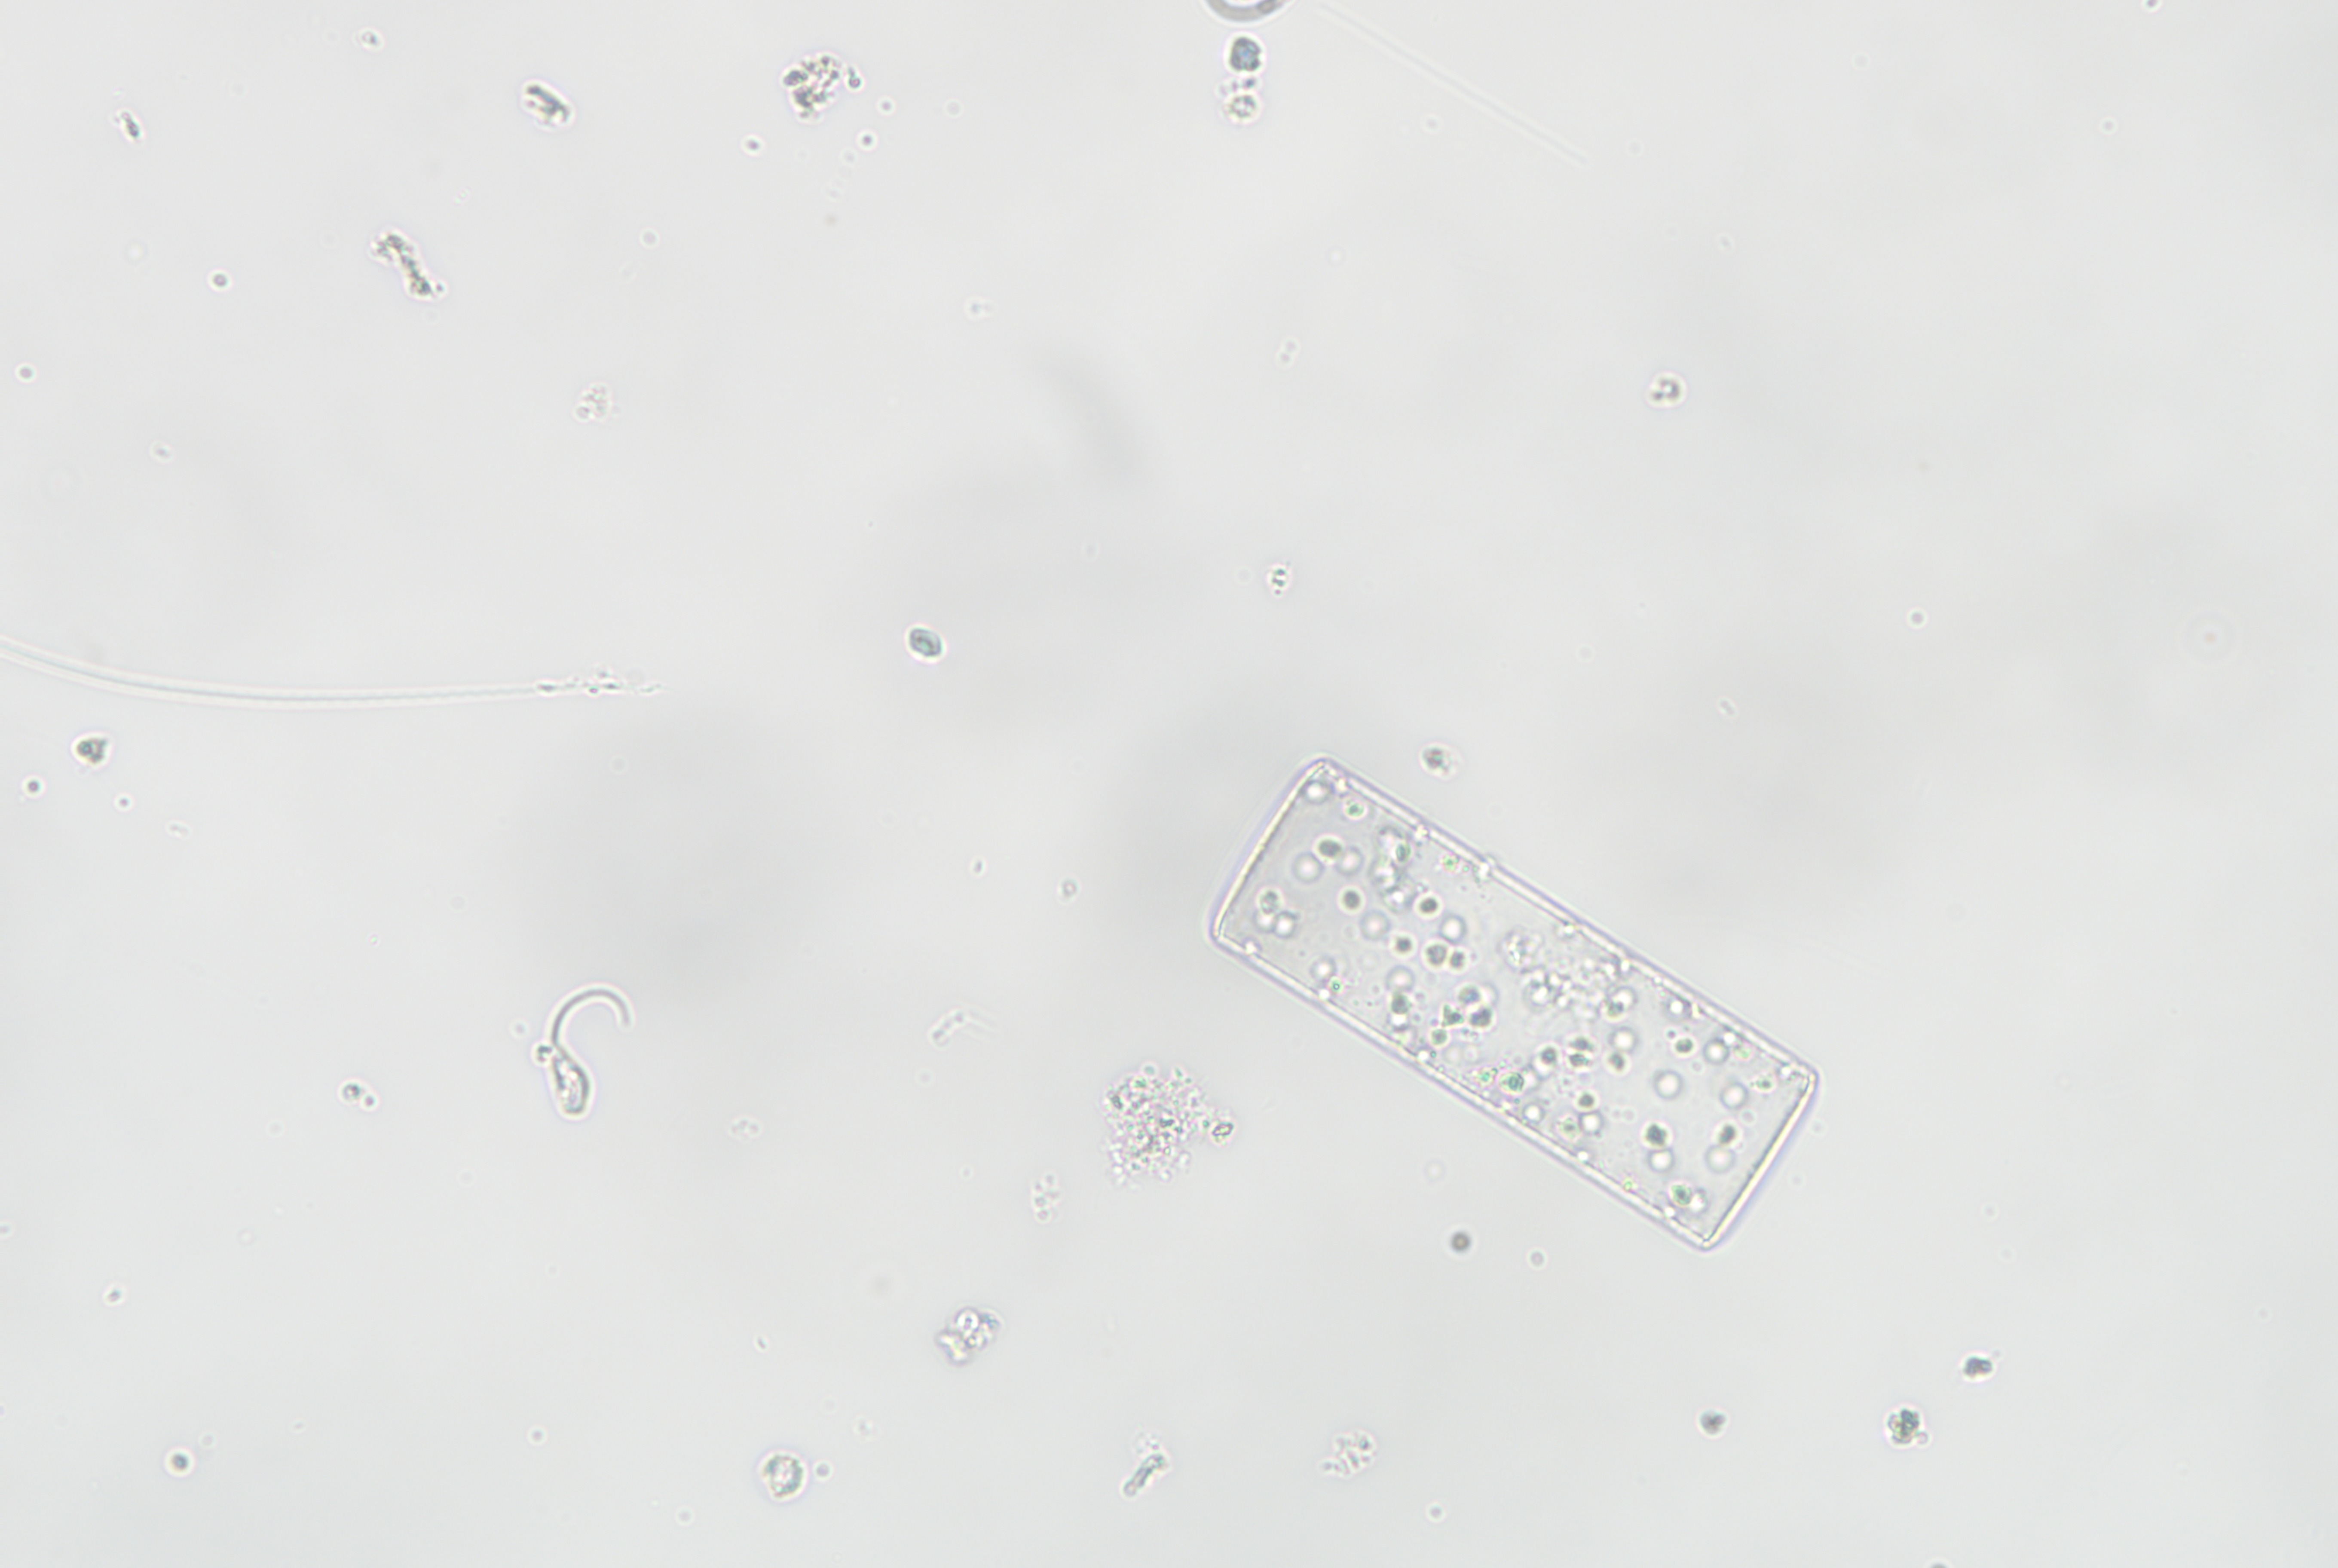guinardia flaccida: (1199, 719, 1827, 1249)
